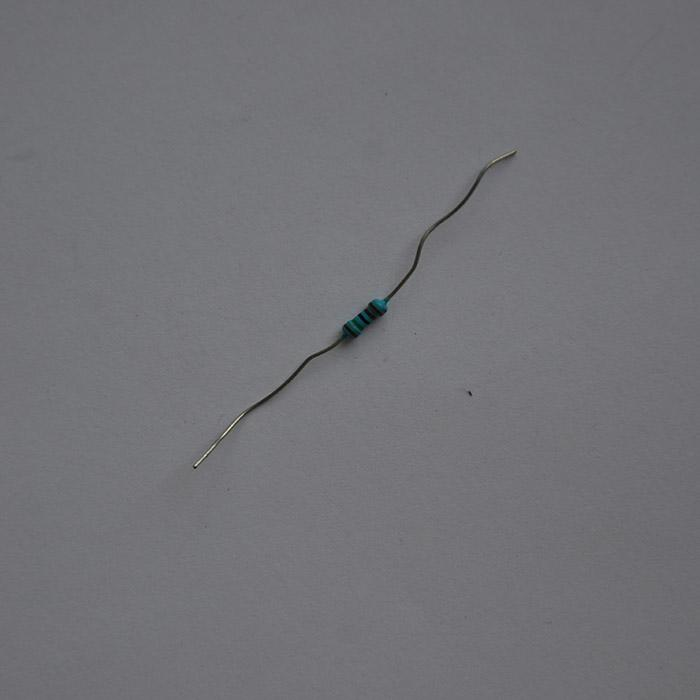resistor: (340, 296, 388, 340)
